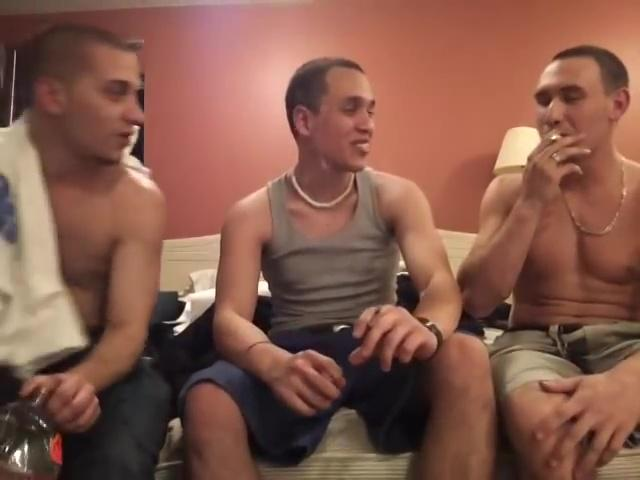cigarette: (367, 305, 383, 329), (547, 134, 567, 144)
